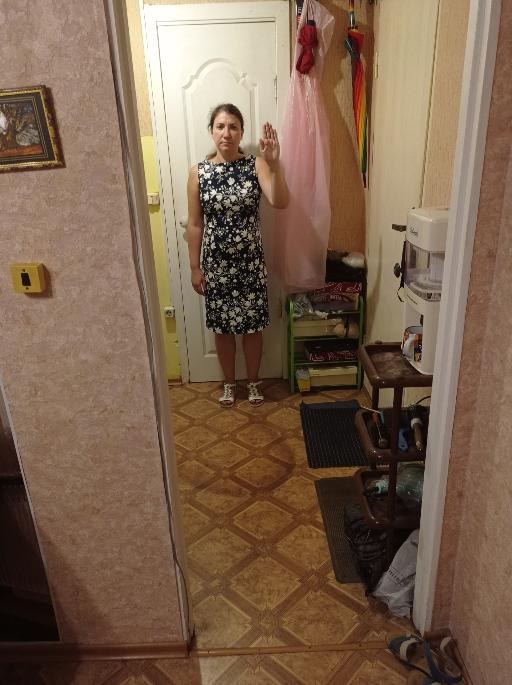no_gesture: (188, 265, 208, 297)
stop: (257, 119, 280, 164)
